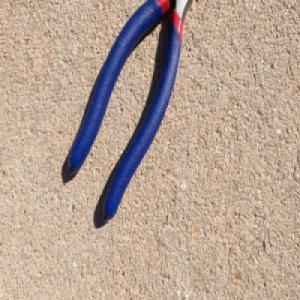Pliers: (67, 0, 197, 225)
